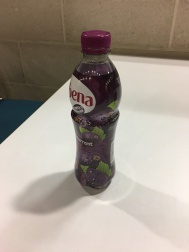bottle_purple: (58, 20, 131, 200)
